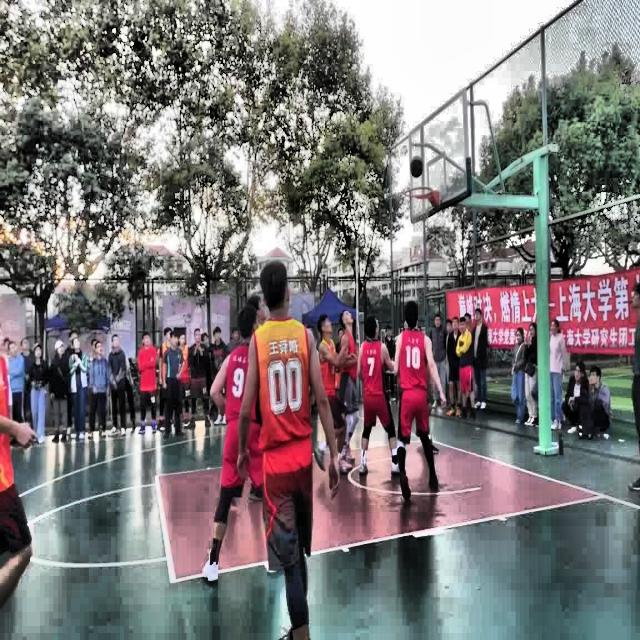board: (409, 156, 423, 178)
